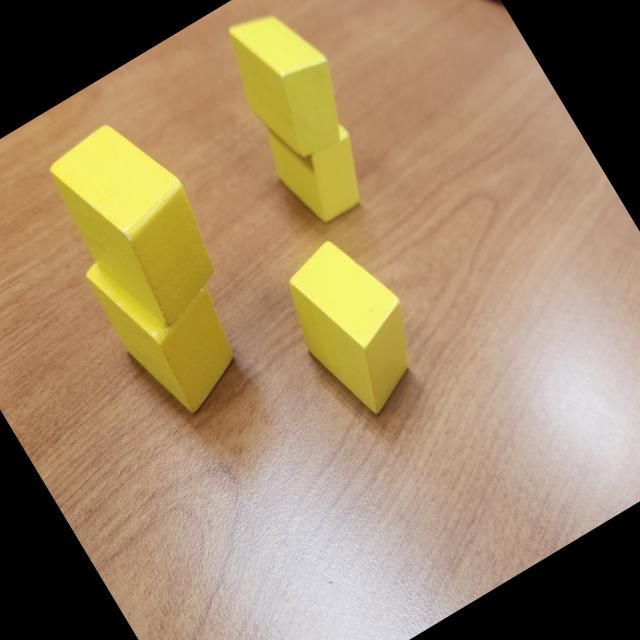yellow: (38, 105, 242, 341), (76, 212, 261, 427), (266, 226, 444, 427), (208, 0, 367, 172), (253, 92, 385, 233)
